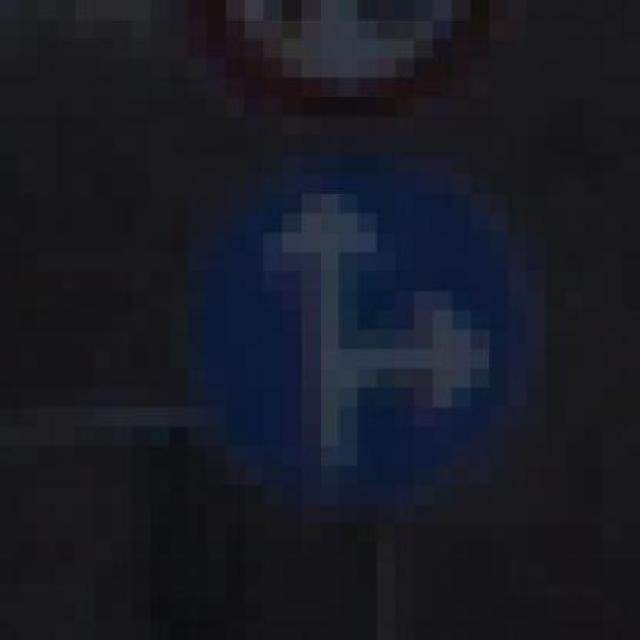Go Straight or Turn Right: (150, 135, 564, 563)
